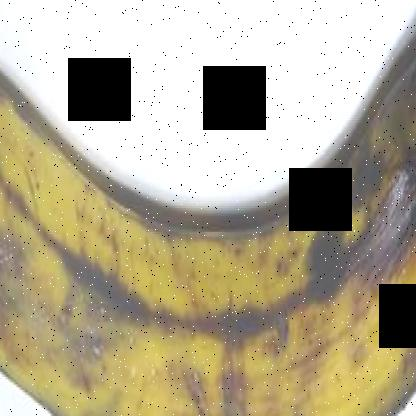overripe: (1, 40, 415, 415)
rotten: (335, 39, 415, 270)
